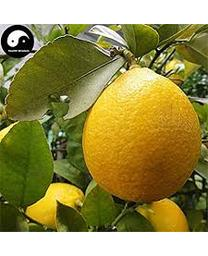lemon: (82, 65, 203, 203)
